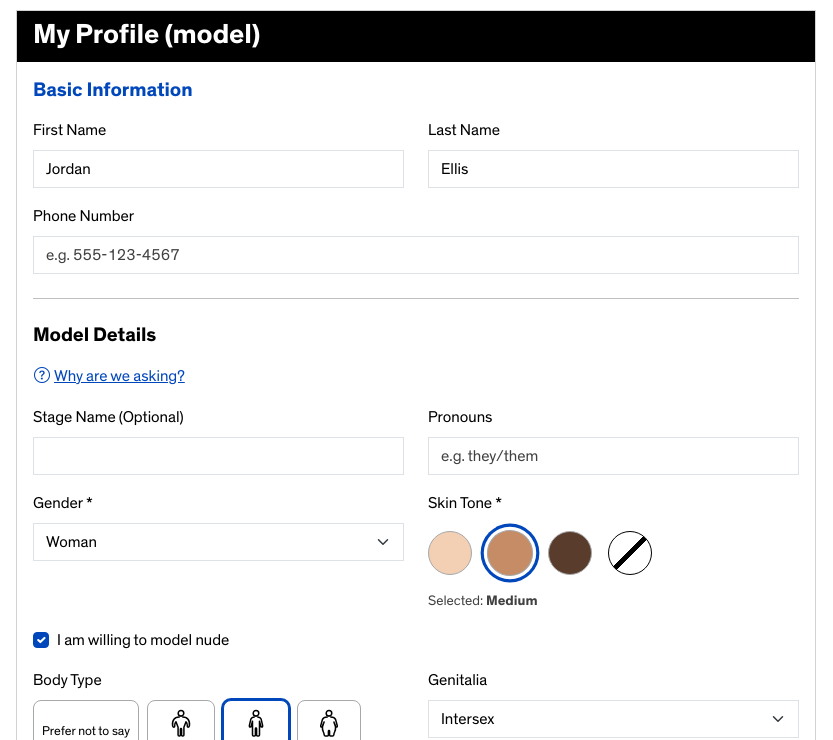
Scenario: Profile › puts back the saved answers when the server refuses the change
The width and height of the screenshot is (833, 740).
Step 1. Click the checkbox labelled "I am willing to model nude" → x=41, y=640, box left=33, top=632, right=49, bottom=648
(page scrolled)
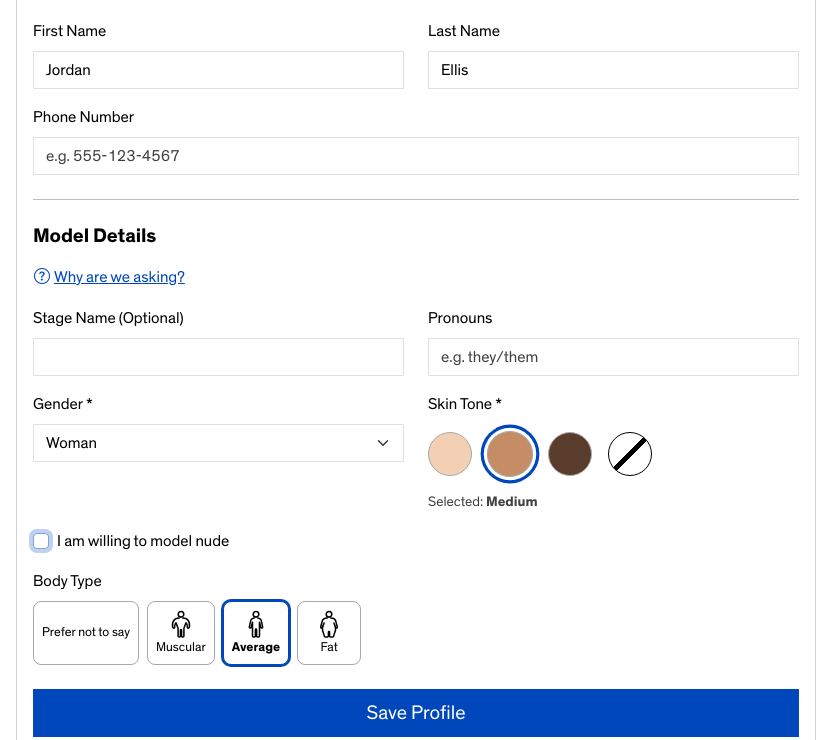
Expected: the checkbox labelled "I am willing to model nude" is not checked, left=33, top=533, right=49, bottom=549
Step 2. Click the button "Save Profile" → x=416, y=713, box left=33, top=689, right=799, bottom=737
(page scrolled)
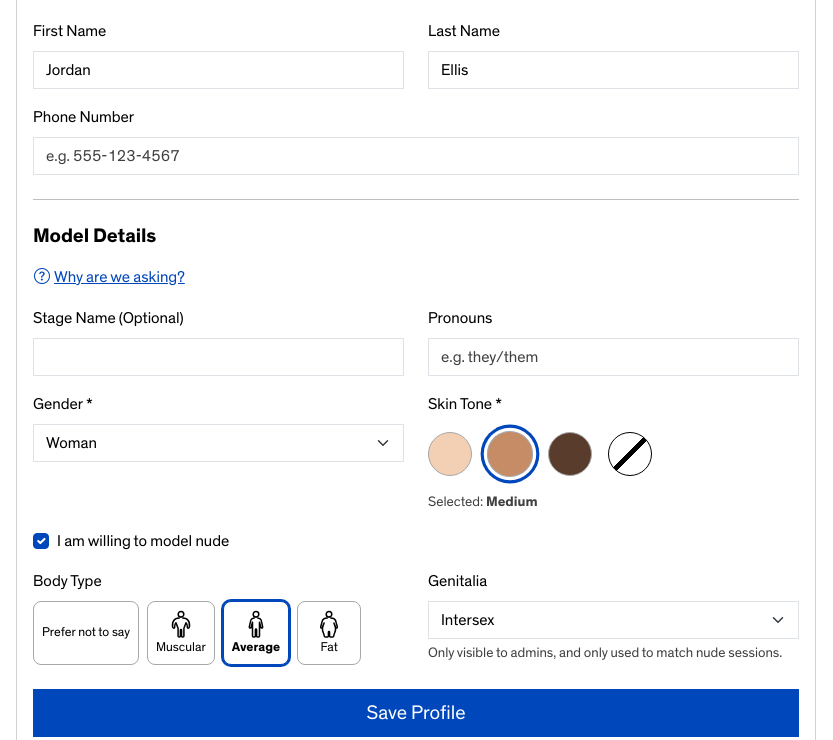
Expected: the checkbox labelled "I am willing to model nude" is checked, left=33, top=533, right=49, bottom=549
Expected: the dropdown labelled "Genitalia" shows "Intersex", left=428, top=601, right=799, bottom=639
